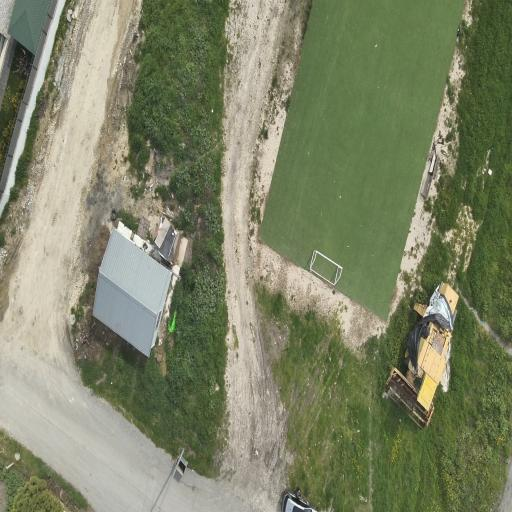car: (282, 489, 317, 511)
harvester: (385, 284, 458, 428)
